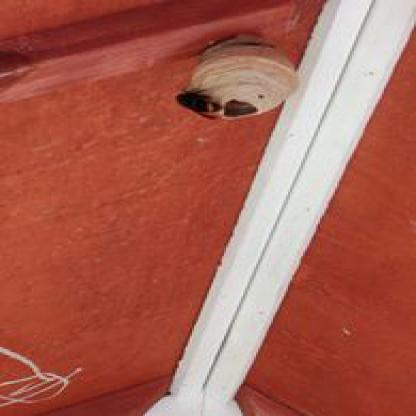Asian Hornet: (174, 84, 266, 122)
